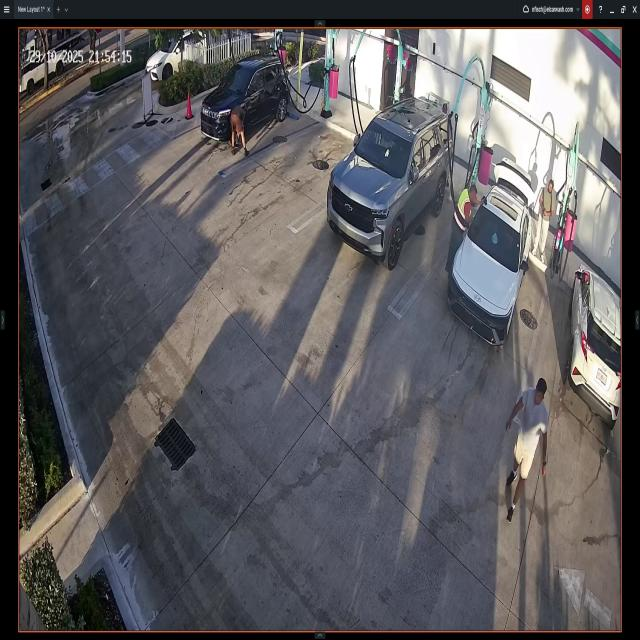Car: (330, 95, 449, 272), (448, 156, 536, 344), (567, 265, 620, 424), (204, 59, 289, 146), (146, 30, 191, 86)
